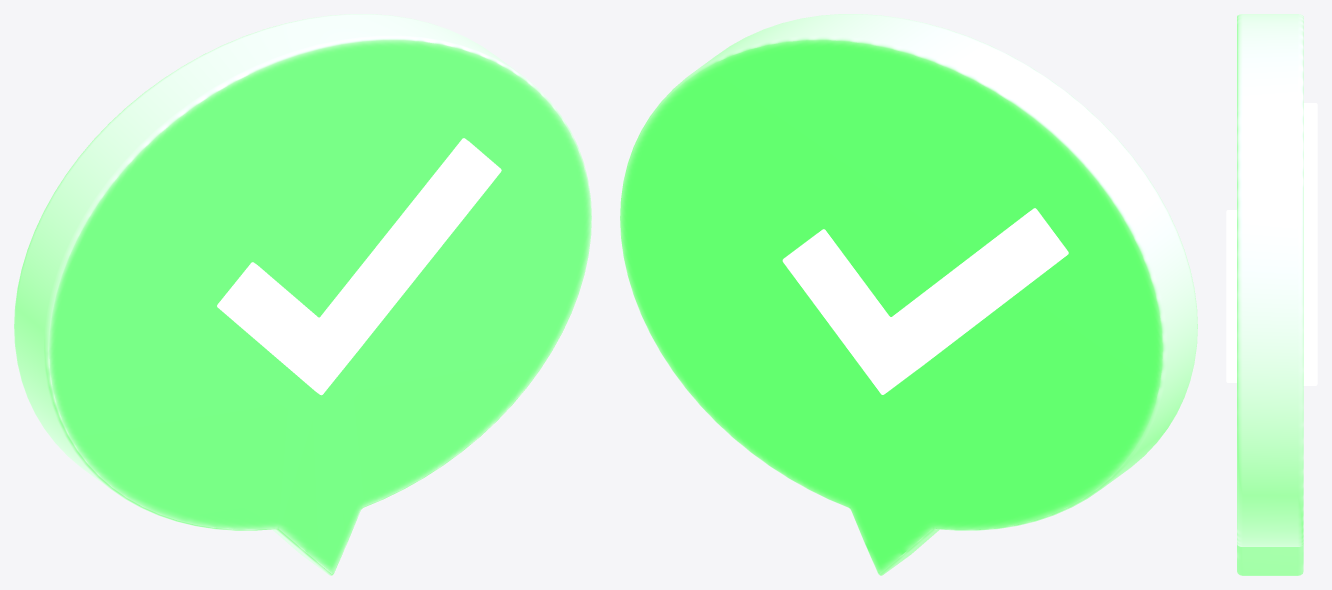
File: 绿色对号.glb
The picture shows the model from 3 angles, left to right: view 1: azimuth 30°, elevation 25°; view 2: azimuth 150°, elevation 25°; view 3: azimuth 270°, elevation 25°; orthographic projection. The views are drawn at different scales.
Visible parts, largest first — view 1: RIZOMUV:SM_Gou.001; view 2: RIZOMUV:SM_Gou.001; view 3: RIZOMUV:SM_Gou.001.
Boxes of the visible parts, box(x1,y1,x2,y2) form: RIZOMUV:SM_Gou.001: box(14, 14, 591, 575); RIZOMUV:SM_Gou.001: box(620, 14, 1197, 575); RIZOMUV:SM_Gou.001: box(1226, 14, 1317, 575).
Bounding box in the file's own units: 3.52 × 3.29 × 0.5218.
Materials: 1 (1 with a texture image).
